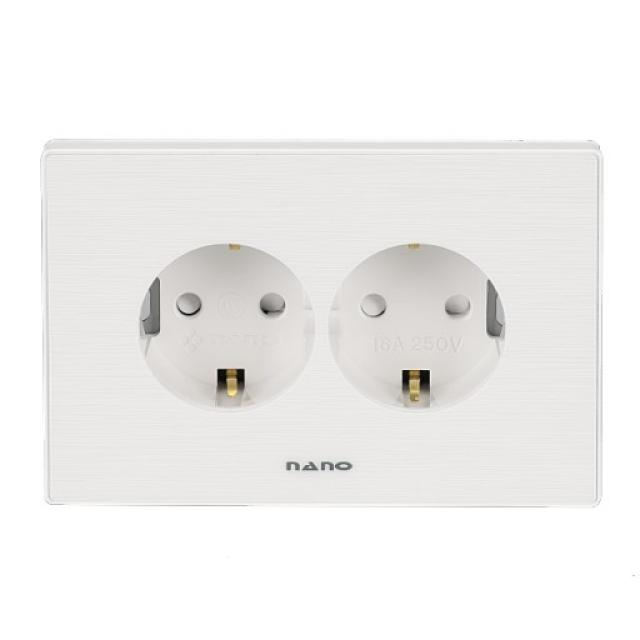typeb: (20, 124, 628, 542)
